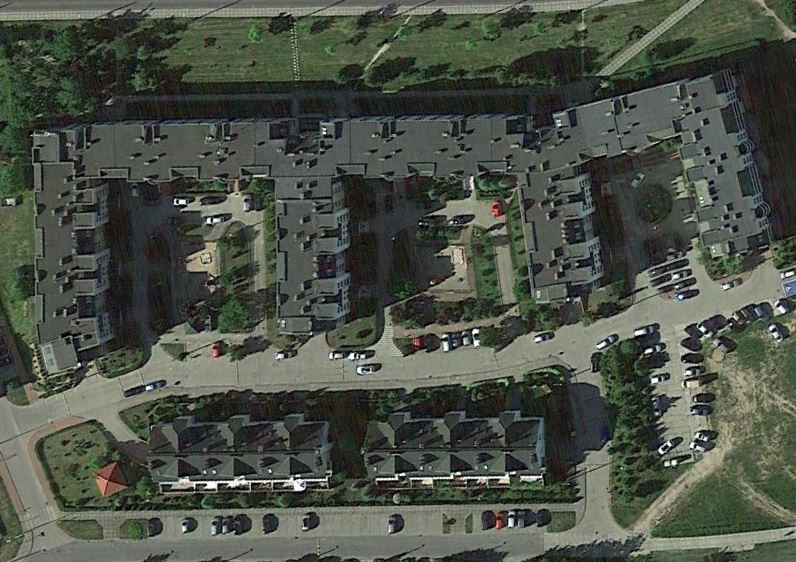block of flats: (26, 65, 779, 385), (144, 405, 336, 496), (360, 404, 551, 492)
